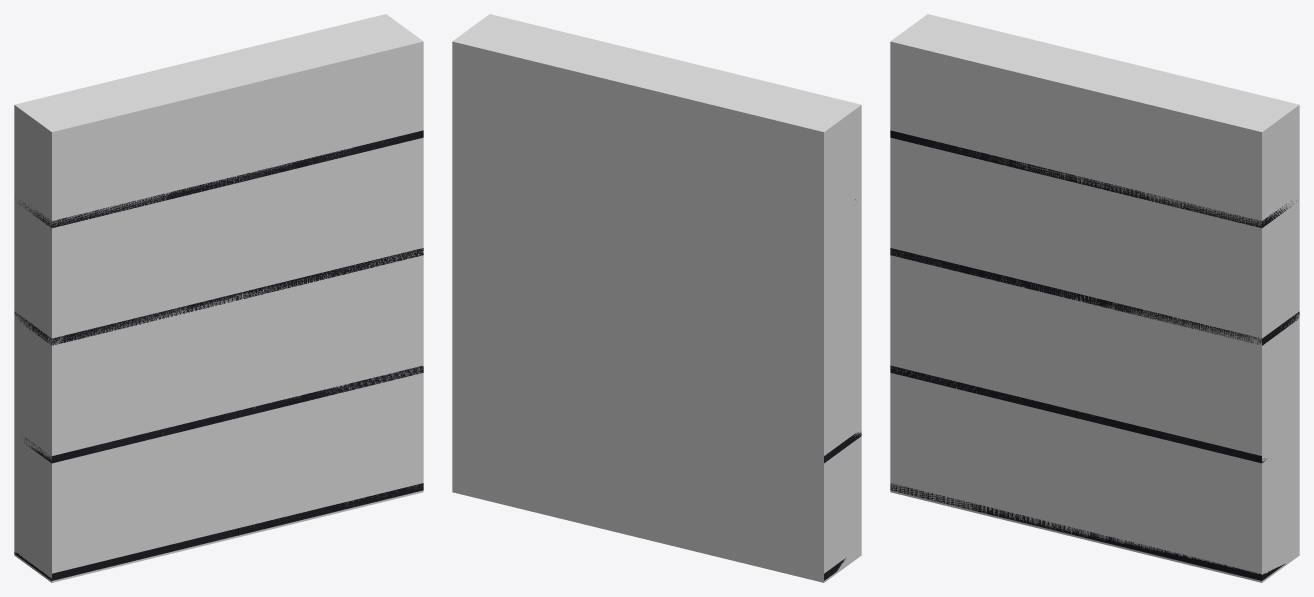
The model's file is Furn_Bookshelf.gltf.
The picture shows the model from 3 angles, left to right: view 1: azimuth 30°, elevation 25°; view 2: azimuth 150°, elevation 25°; view 3: azimuth 330°, elevation 25°; orthographic projection.
Parts seen in each view (by area): view 1: Furn_Bookshelf_COL, Furn_Bookshelf; view 2: Furn_Bookshelf_COL; view 3: Furn_Bookshelf_COL, Furn_Bookshelf.
Boxes of the visible parts, bbox=[...] form: Furn_Bookshelf_COL: bbox=[14, 14, 423, 582]; Furn_Bookshelf: bbox=[14, 130, 423, 580]; Furn_Bookshelf_COL: bbox=[452, 14, 861, 582]; Furn_Bookshelf_COL: bbox=[890, 14, 1299, 582]; Furn_Bookshelf: bbox=[890, 130, 1299, 580].
Size of the model in its own units: 1.6 by 1.85 by 0.28.
Materials: 14 (1 with a texture image).
